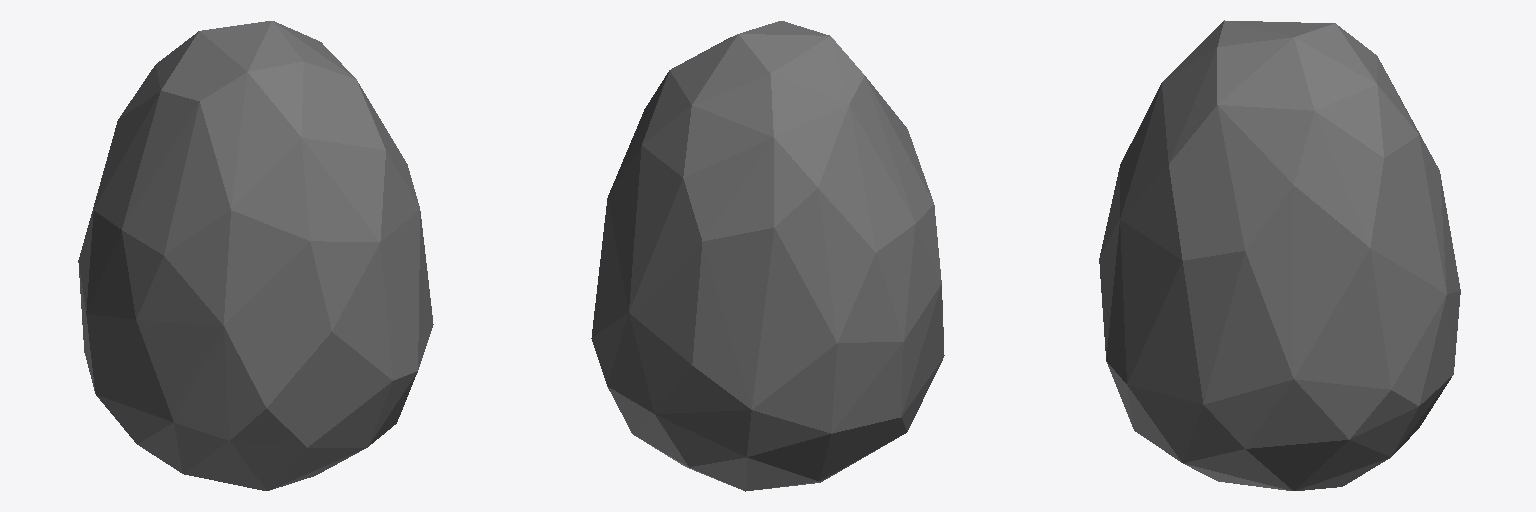
URDF robot description (egg_001):
<?xml version="1.0" ?>
<robot name="egg_001">
  <material name="color">
    <color rgba=".5 .5 .5 1"/>
  </material>

  <link name="base_link">
    <contact>
      <lateral_friction value="1.0"/>
      <rolling_friction value="0.001"/>
      <spinning_friction value="0.001"/>
      <inertia_scaling value="1.0"/>
    </contact>
    <inertial>
      <origin rpy="0 0 0" xyz="-4.29537e-07 4.50973e-07 -0.00188262"/>
       <mass value="0.1"/>
       <inertia ixx="1" ixy="0" ixz="0" iyy="1" iyz="0" izz="1"/>
    </inertial>

    <visual>
      <origin rpy="0 0 0" xyz="0 0 0"/>
      <geometry>
        <mesh filename="egg_001_vhacd_0_of_1.obj" scale="1 1 1"/>
      </geometry>
      <material name="color"/>
    </visual>

    <collision>
      <origin rpy="0 0 0" xyz="0 0 0"/>
      <geometry>
        <mesh filename="egg_001_vhacd_0_of_1.obj" scale="1 1 1"/>
      </geometry>
    </collision>

  </link>
</robot>

--- Facts derived from the render (not from the file) ---
3 views of the same robot in one strip: view 1: azimuth 30°, elevation 25°; view 2: azimuth 150°, elevation 25°; view 3: azimuth 270°, elevation 25° (orthographic).
Robot: egg_001 — 1 links, 0 joints (none); root link base_link; default pose: all joints at 0.
Visible links, largest first — view 1: base_link; view 2: base_link; view 3: base_link.
Link boxes in pixels (x1,y1,x2,y2): base_link: (78, 21, 433, 490); base_link: (591, 21, 944, 491); base_link: (1099, 20, 1460, 490).
Size in the robot's own frame: 0.037 by 0.037 by 0.0499 metres.
Meshes: 1 distinct files referenced, 1 mesh visuals loaded (1 OBJ).